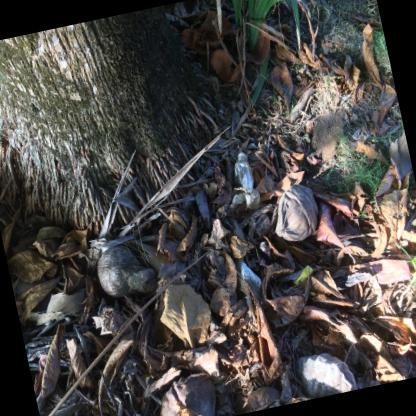Plastic: (234, 152, 260, 209), (238, 152, 247, 160)
Waste: (240, 261, 262, 289)
